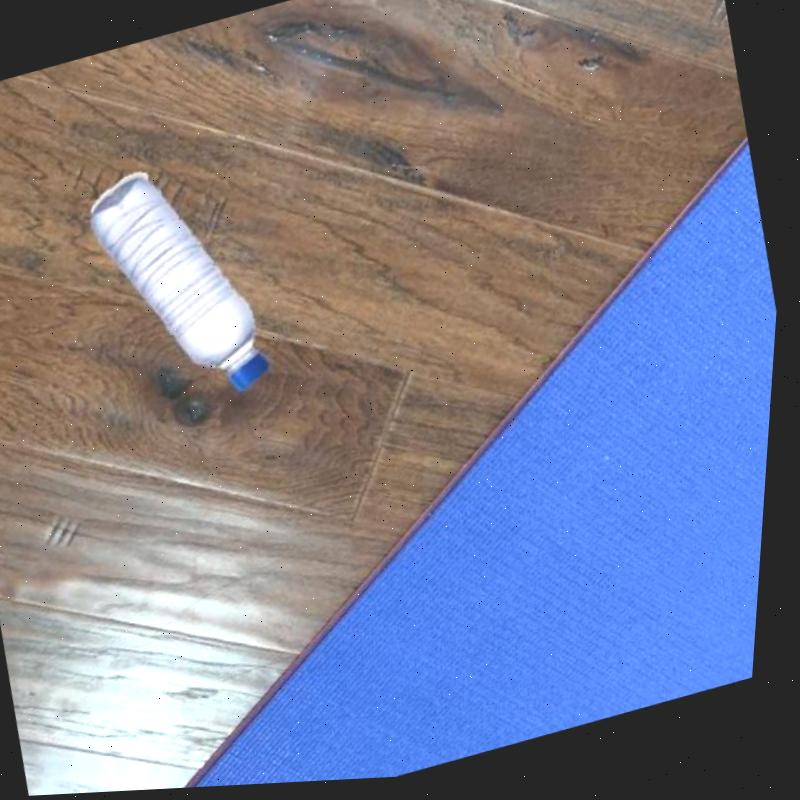botella: (74, 146, 287, 426)
